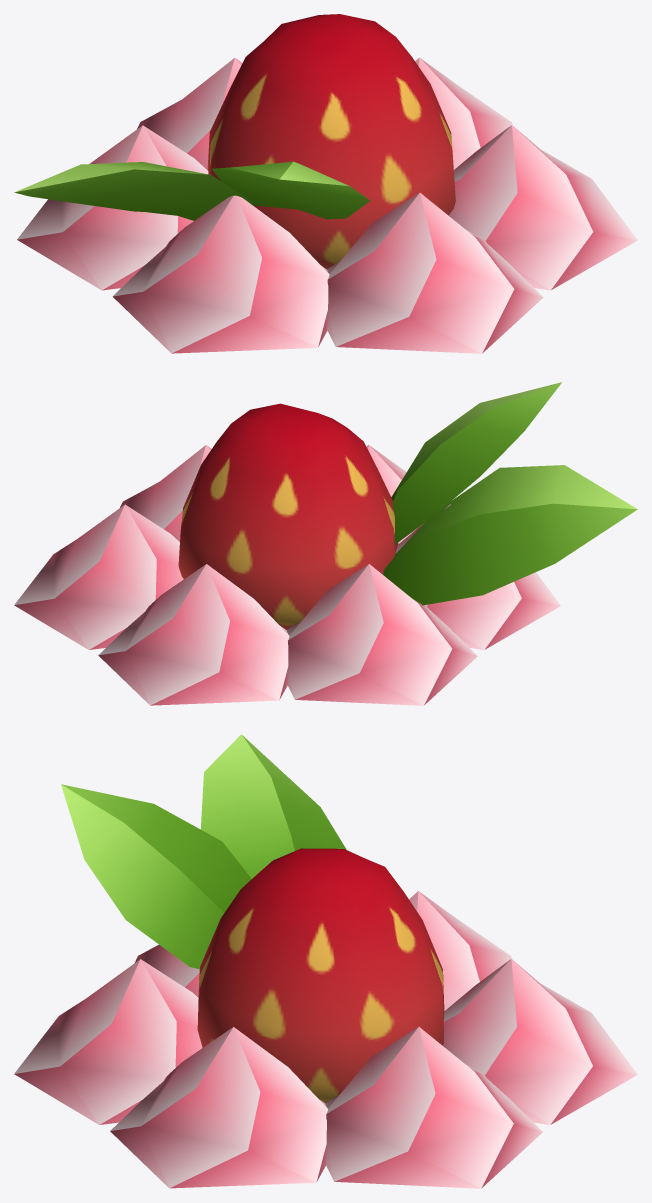
The model's file is m_Cake02_Deco.fbx.
The picture shows the model from 3 angles, top to bottom: view 1: azimuth 30°, elevation 25°; view 2: azimuth 150°, elevation 25°; view 3: azimuth 270°, elevation 25°; orthographic projection. The views are drawn at different scales.
Parts seen in each view (by area): view 1: m_Cake02_Deco; view 2: m_Cake02_Deco; view 3: m_Cake02_Deco.
Part boxes in pixels (x1,y1,x2,y2): m_Cake02_Deco: (14, 14, 637, 353); m_Cake02_Deco: (14, 382, 637, 705); m_Cake02_Deco: (14, 734, 637, 1188).
Bounding box in the file's own units: 11.9 × 4.54 × 10.87.
